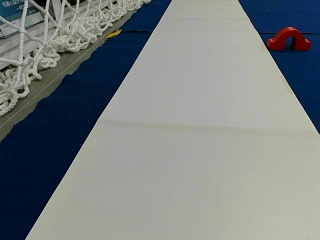bridge: (268, 26, 310, 49)
